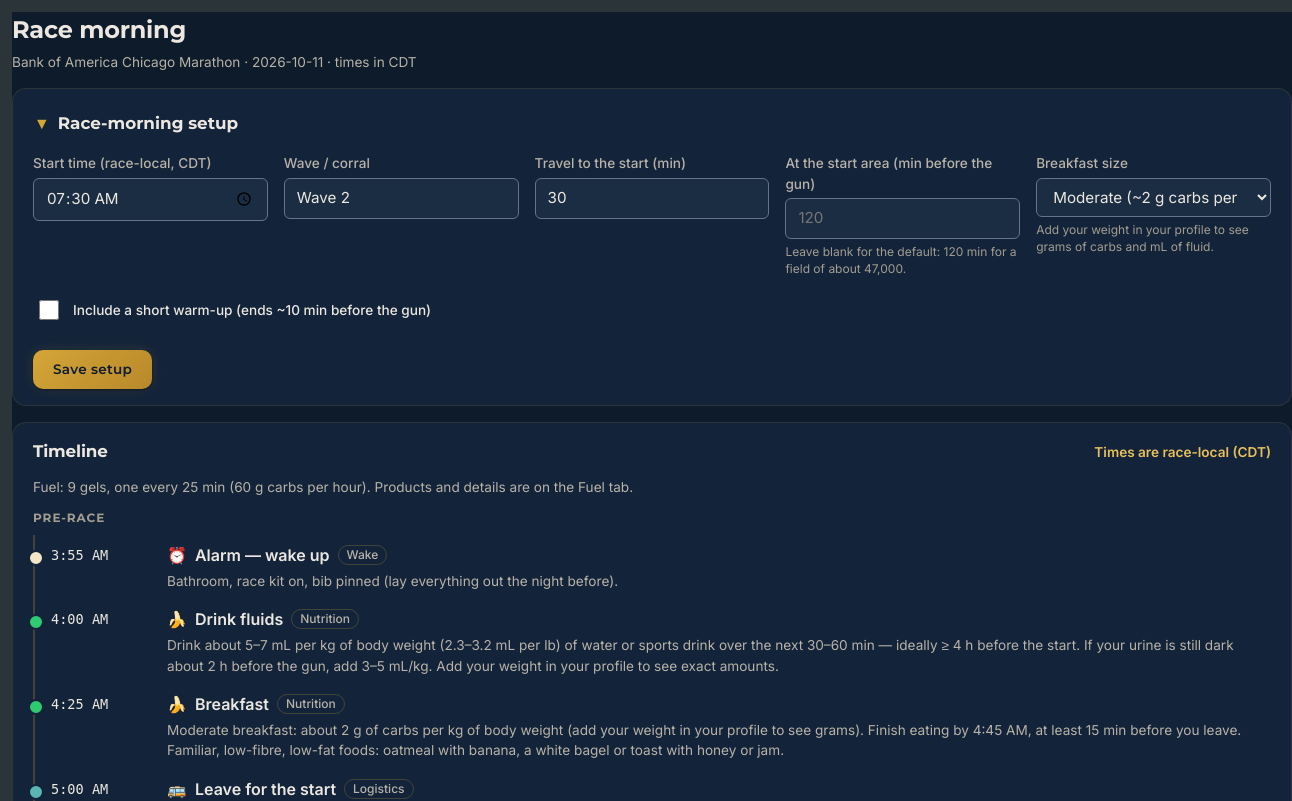
it: RaceMorningPanel › collapses the setup form with an aria-expanded disclosure
Click the button "▾ Race-morning setup".
click(136, 123)  # box [25, 105, 246, 141]
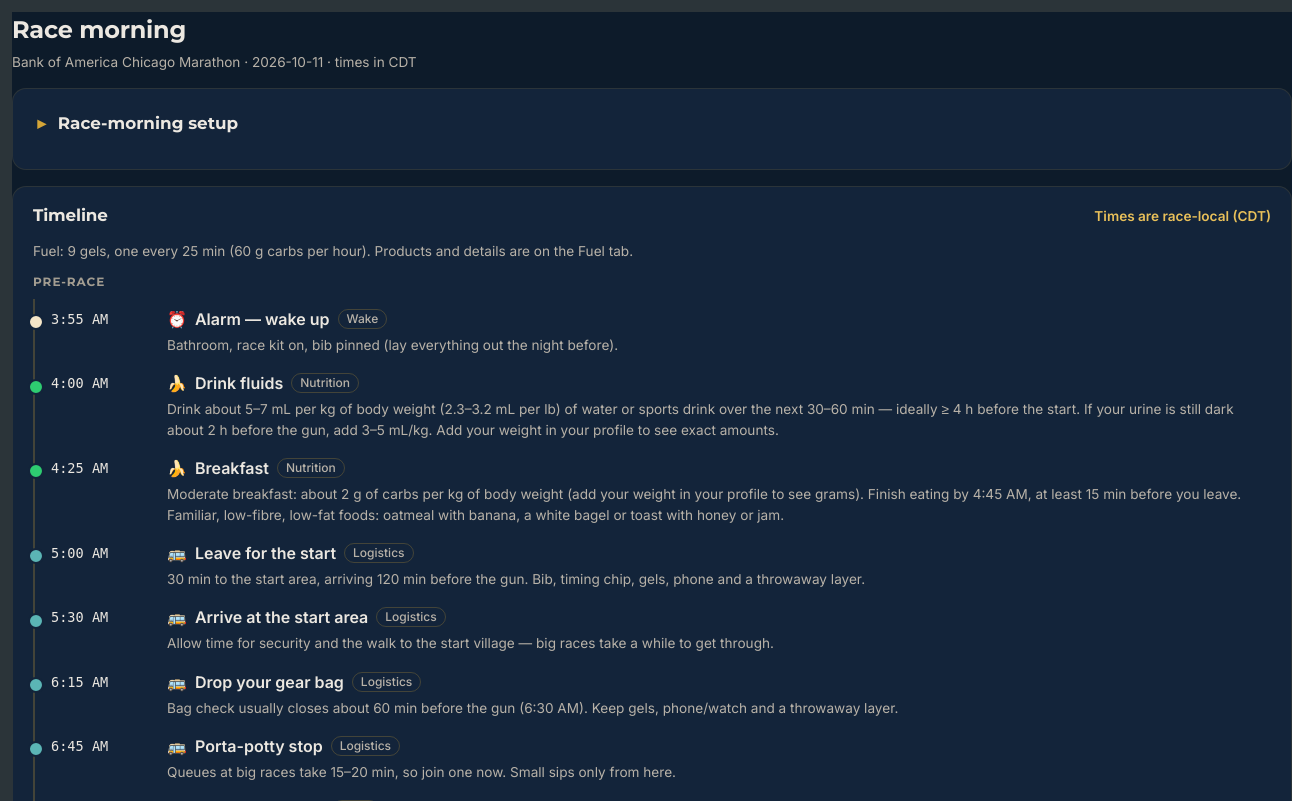
Expected: the button "▸ Race-morning setup" is collapsed, [25, 105, 246, 141]
